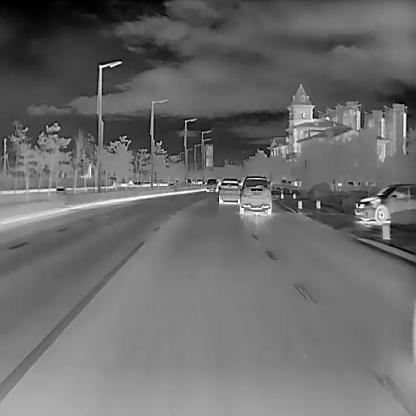car: (354, 183, 416, 222), (238, 173, 272, 215), (218, 177, 240, 203), (204, 177, 219, 191)
